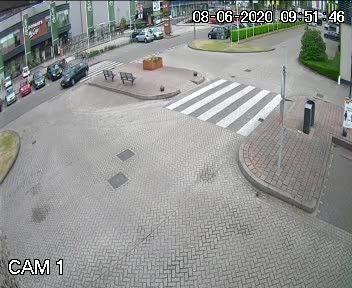car: (54, 59, 91, 93)
